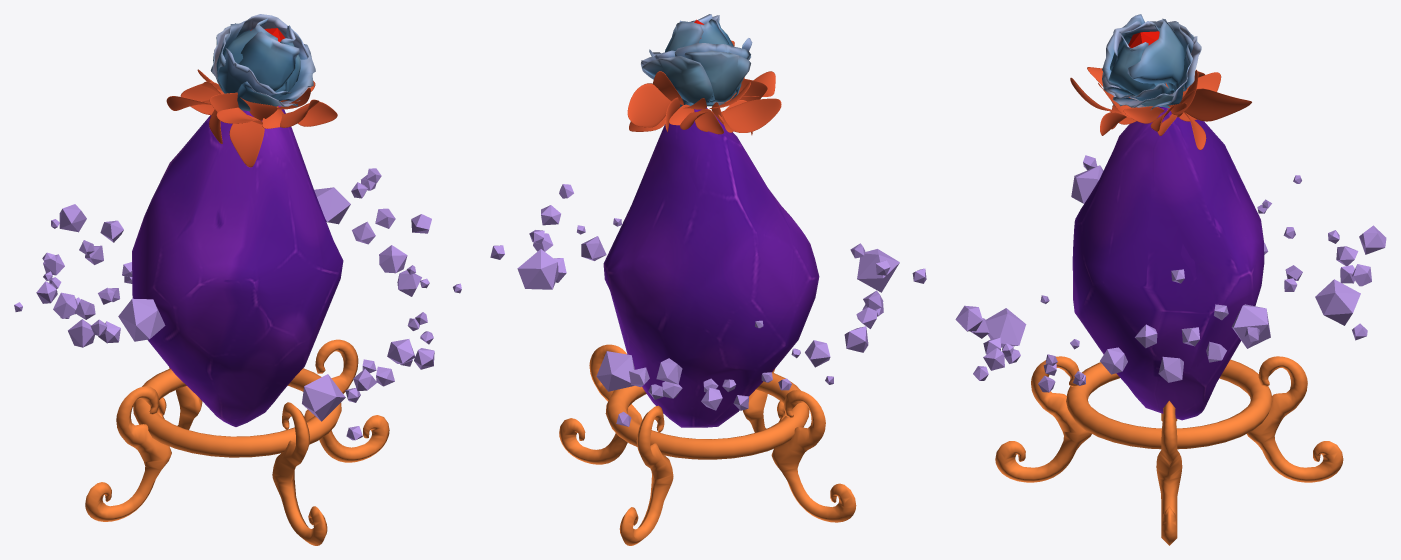
The model's file is JadeArdinals_498.glb.
The picture shows the model from 3 angles, left to right: view 1: azimuth 30°, elevation 25°; view 2: azimuth 150°, elevation 25°; view 3: azimuth 270°, elevation 25°; orthographic projection. The views are drawn at different scales.
Visible parts, largest first — view 1: purple, BRgold, OrionPurple, PinkRose.001; view 2: purple, BRgold, PinkRose.001, OrionPurple; view 3: purple, BRgold, OrionPurple, PinkRose.001.
Part boxes in pixels (x1,y1,x2,y2): purple: (132,105,343,426); BRgold: (85,339,389,545); OrionPurple: (14,168,461,440); PinkRose.001: (166,14,337,167); purple: (603,108,819,427); BRgold: (559,344,856,545); PinkRose.001: (627,14,781,135); OrionPurple: (490,184,926,426); purple: (1072,106,1264,420); BRgold: (995,356,1343,545); OrionPurple: (955,155,1386,392); PinkRose.001: (1070,14,1251,149).
Size of the model in its own units: 4.19 by 5.13 by 4.27.
7 materials, 2 textured.
